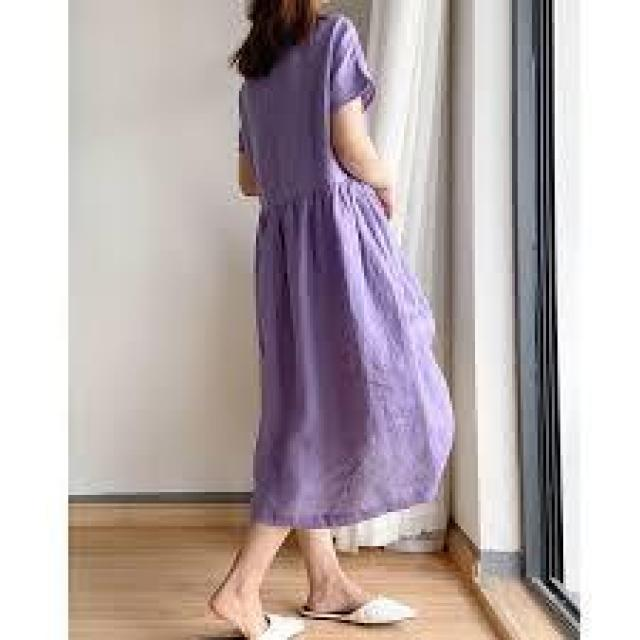dress: (242, 16, 435, 530)
